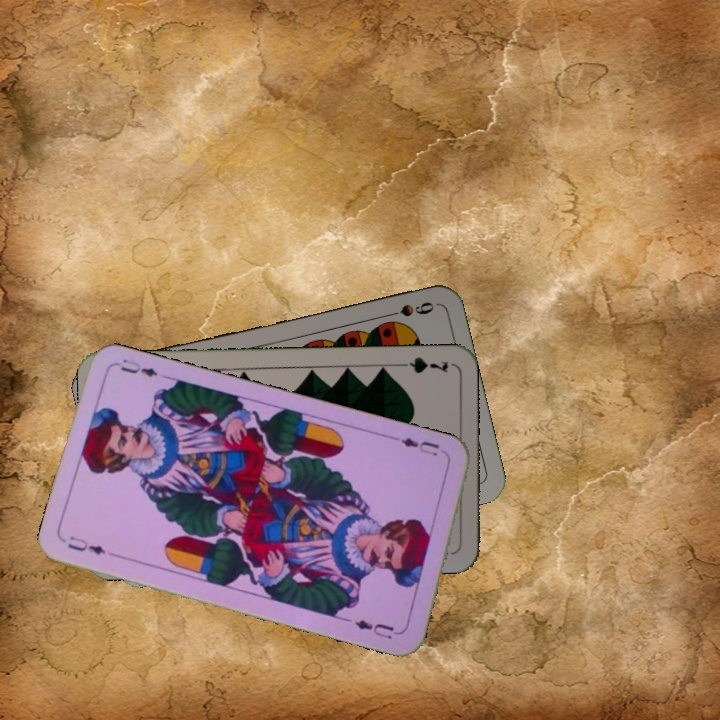EU: (390, 433, 442, 459), (63, 531, 108, 558)
G7: (392, 353, 451, 376)
S9: (378, 297, 437, 321)
